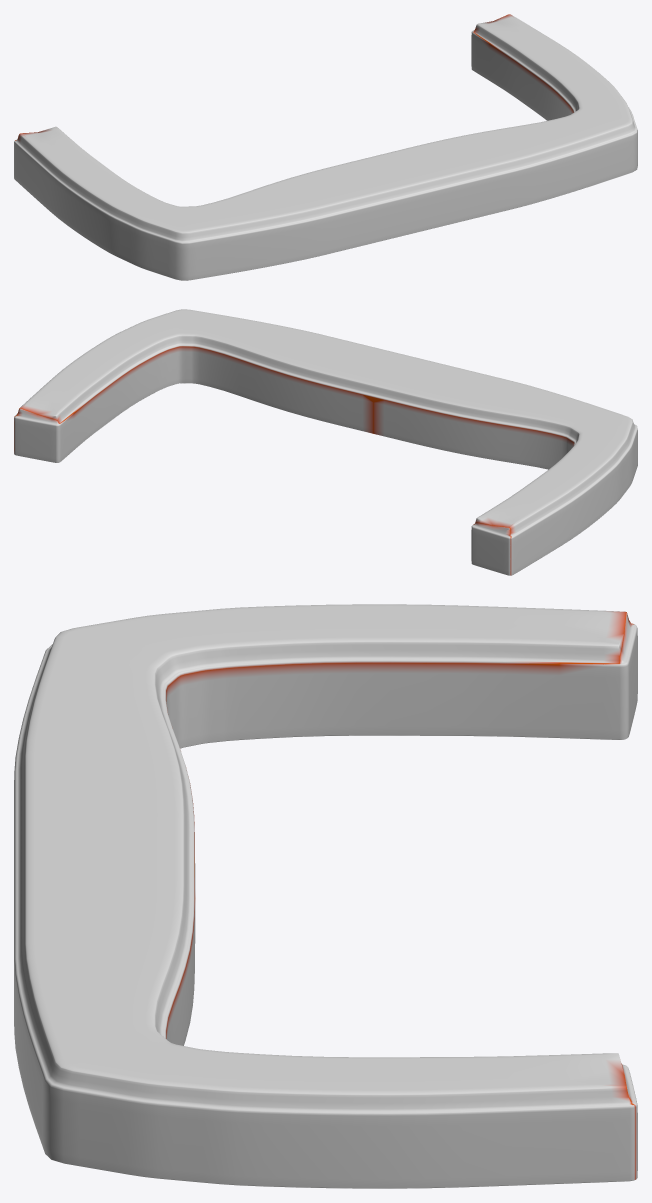
The model's file is v_handle_01.fbx.
The picture shows the model from 3 angles, top to bottom: view 1: azimuth 30°, elevation 25°; view 2: azimuth 150°, elevation 25°; view 3: azimuth 270°, elevation 25°; orthographic projection. The views are drawn at different scales.
Parts seen in each view (by area): view 1: handle_02; view 2: handle_02; view 3: handle_02.
Part boxes in pixels (left/top/right/bottom): handle_02: left=14, top=14, right=637, bottom=280; handle_02: left=14, top=309, right=637, bottom=575; handle_02: left=14, top=604, right=637, bottom=1188.
Bounding box in the file's own units: 0.7874 × 0.0684 × 0.4165.
